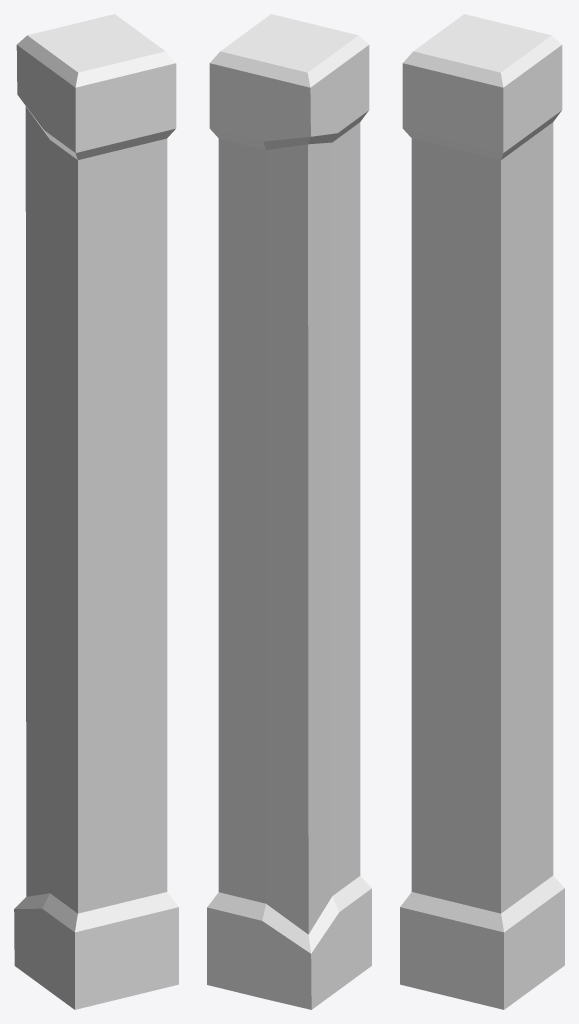
Rendered from g_o_BedroomWallCorner270.fbx.
3 renders of one model, left to right at view 1: azimuth 30°, elevation 25°; view 2: azimuth 150°, elevation 25°; view 3: azimuth 330°, elevation 25°, orthographic.
Visible parts, largest first — view 1: g_o_BedroomWallCorner270; view 2: g_o_BedroomWallCorner270; view 3: g_o_BedroomWallCorner270.
Part boxes in pixels (x1,y1,x2,y2): g_o_BedroomWallCorner270: [14, 14, 178, 1009]; g_o_BedroomWallCorner270: [207, 14, 371, 1009]; g_o_BedroomWallCorner270: [400, 14, 564, 1009].
Size of the model in its own units: 0.2198 by 1.88 by 0.2223.
